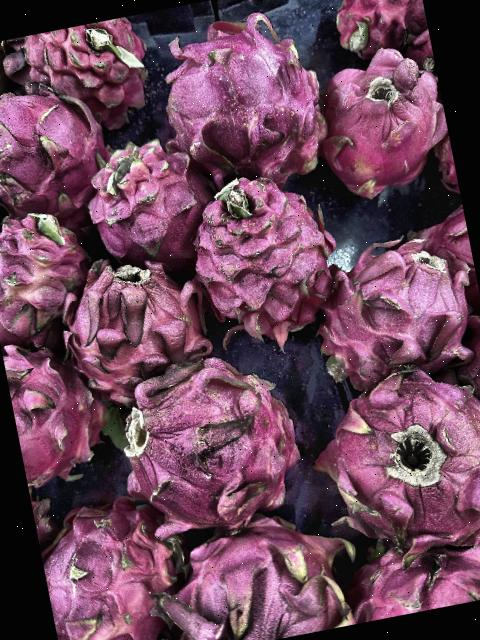buah-naga-matang: (303, 336, 480, 559), (102, 346, 304, 524), (154, 0, 328, 189), (154, 490, 367, 640), (184, 163, 342, 348), (314, 236, 480, 390), (35, 480, 193, 640), (47, 250, 207, 391), (315, 29, 452, 192), (78, 124, 216, 273), (0, 12, 164, 135), (1, 325, 118, 491), (0, 65, 113, 219), (0, 194, 99, 350), (344, 509, 480, 622), (333, 0, 432, 66)
